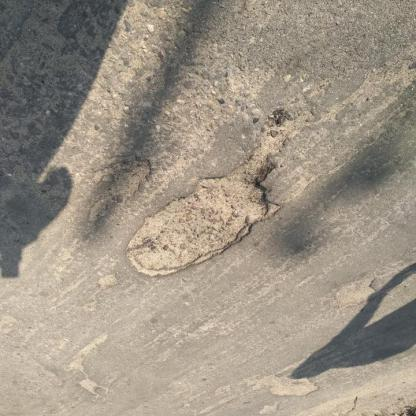pothole: (127, 134, 295, 282), (85, 158, 154, 228), (67, 333, 118, 399), (331, 277, 383, 311), (262, 371, 320, 399), (98, 275, 121, 292), (259, 403, 281, 416)
